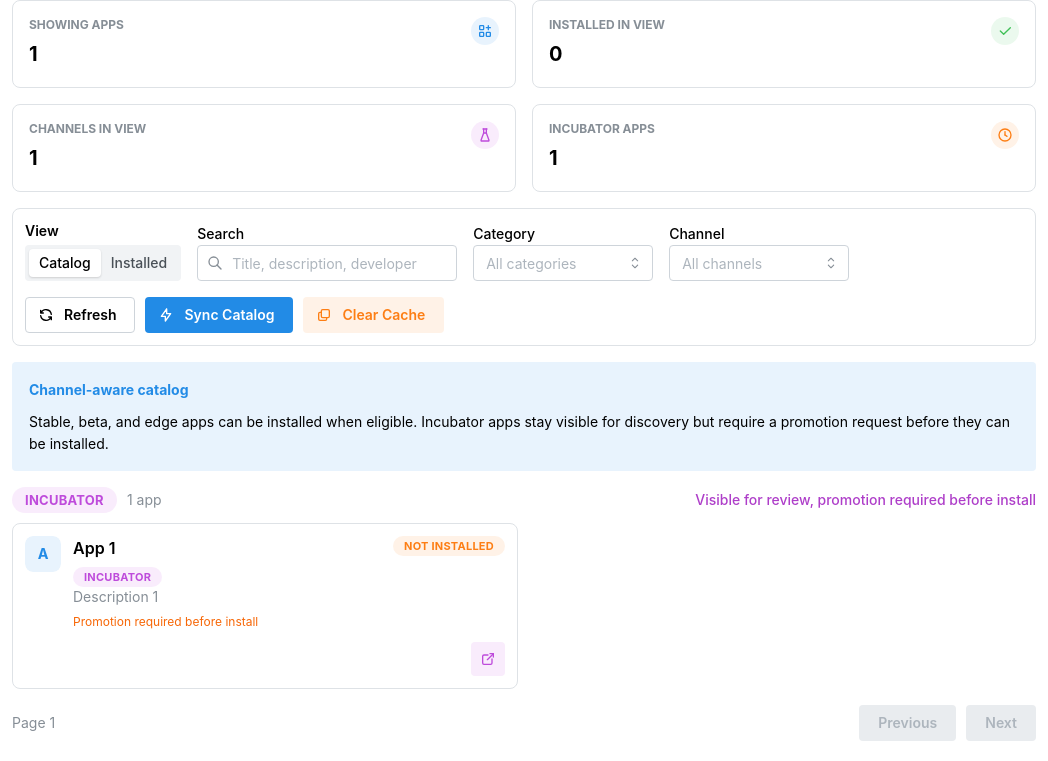
Scenario: loads installed view using installed endpoint
Step 1. Click the radio button labelled "Installed" → (139, 263), box x1=111 y1=254 x2=167 y2=271
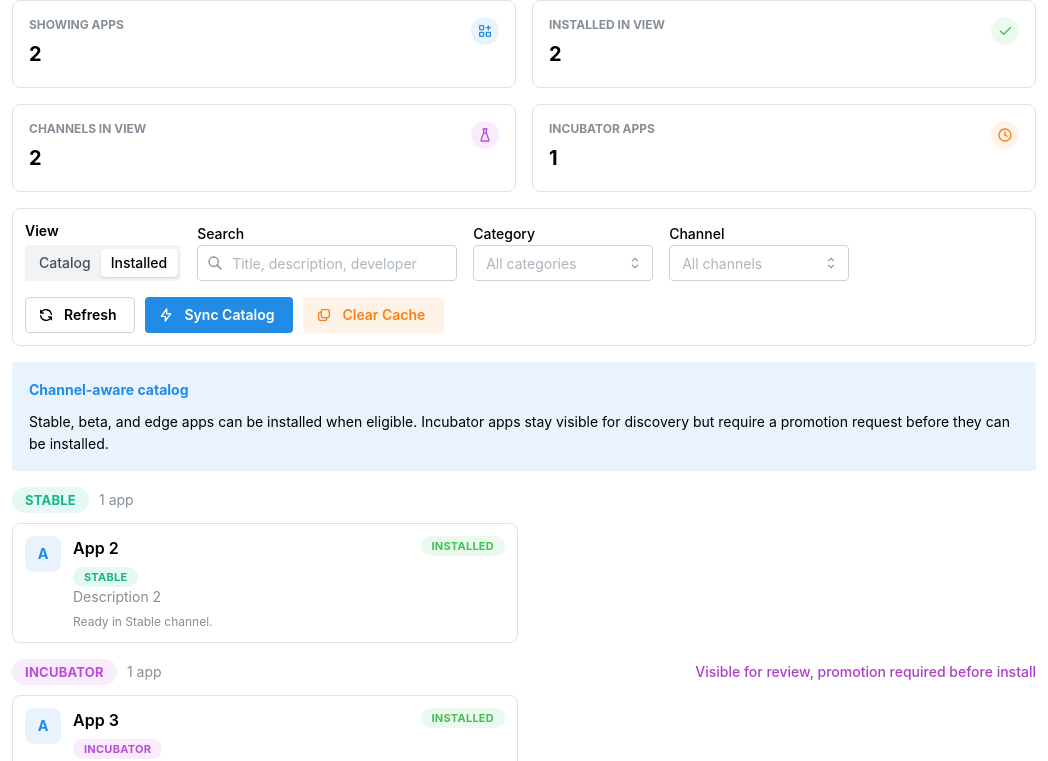
Now the text "App 2" is shown, box x1=73 y1=536 x2=119 y2=561
Now the text "App 3" is shown, box x1=73 y1=708 x2=119 y2=733
